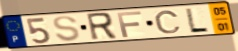5: (25, 16, 53, 45)
C: (153, 9, 183, 35)
F: (116, 10, 144, 39)
L: (184, 7, 211, 33)
R: (84, 12, 119, 42)
S: (52, 15, 82, 43)
